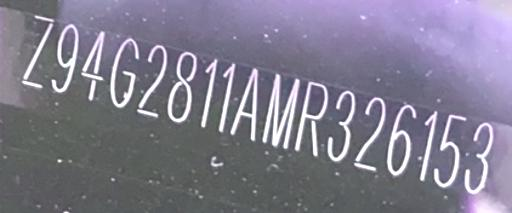letter: (260, 70, 302, 151), (292, 78, 330, 159), (19, 7, 55, 91), (352, 94, 388, 175), (432, 111, 468, 189), (136, 42, 168, 119), (325, 88, 357, 163), (463, 119, 495, 194), (166, 49, 198, 122), (386, 102, 416, 179), (49, 22, 79, 99), (230, 67, 260, 144), (79, 28, 109, 104), (108, 36, 140, 107), (416, 108, 438, 182), (218, 60, 238, 137), (199, 57, 219, 128)
